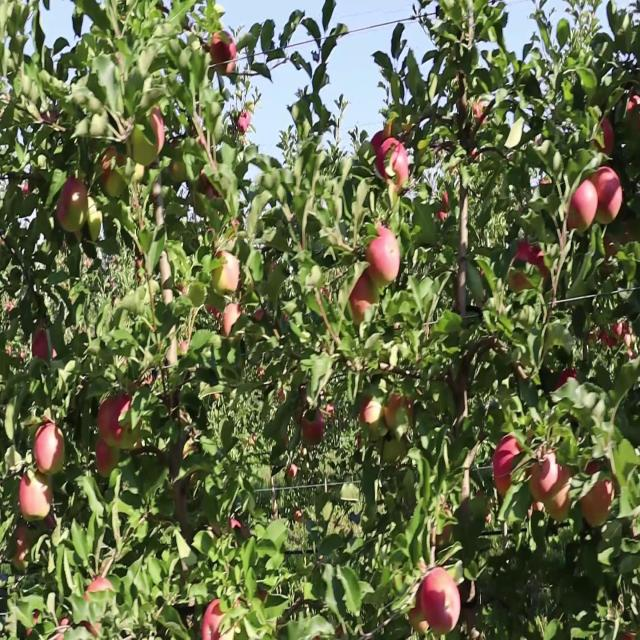apple: (420, 568, 462, 635), (528, 447, 571, 512), (364, 220, 401, 288), (580, 462, 616, 530), (592, 163, 624, 228), (528, 447, 563, 505), (492, 433, 523, 498), (56, 177, 90, 235), (84, 575, 117, 633), (544, 462, 573, 524), (20, 469, 54, 521), (380, 142, 412, 196), (36, 419, 66, 476), (348, 270, 379, 325), (100, 391, 132, 444), (568, 177, 597, 235), (140, 106, 167, 165), (508, 241, 536, 295), (212, 248, 241, 297), (204, 597, 235, 639), (212, 28, 239, 76), (100, 142, 130, 185), (384, 391, 415, 432), (100, 156, 126, 201), (408, 583, 430, 636), (200, 156, 224, 204), (548, 483, 573, 526), (300, 412, 327, 448), (592, 120, 616, 160), (104, 135, 130, 171), (432, 504, 453, 548), (96, 440, 119, 480), (604, 227, 631, 261), (32, 327, 55, 363), (556, 369, 581, 402), (12, 526, 31, 567), (360, 398, 384, 430), (600, 319, 623, 352), (224, 305, 244, 341), (536, 248, 552, 288), (168, 156, 188, 187), (88, 206, 104, 244), (360, 398, 380, 428), (372, 127, 391, 158), (628, 92, 640, 139), (228, 519, 250, 544), (40, 106, 60, 130), (204, 298, 222, 322), (236, 113, 253, 137), (284, 462, 300, 482), (44, 511, 57, 533), (20, 184, 33, 199)
